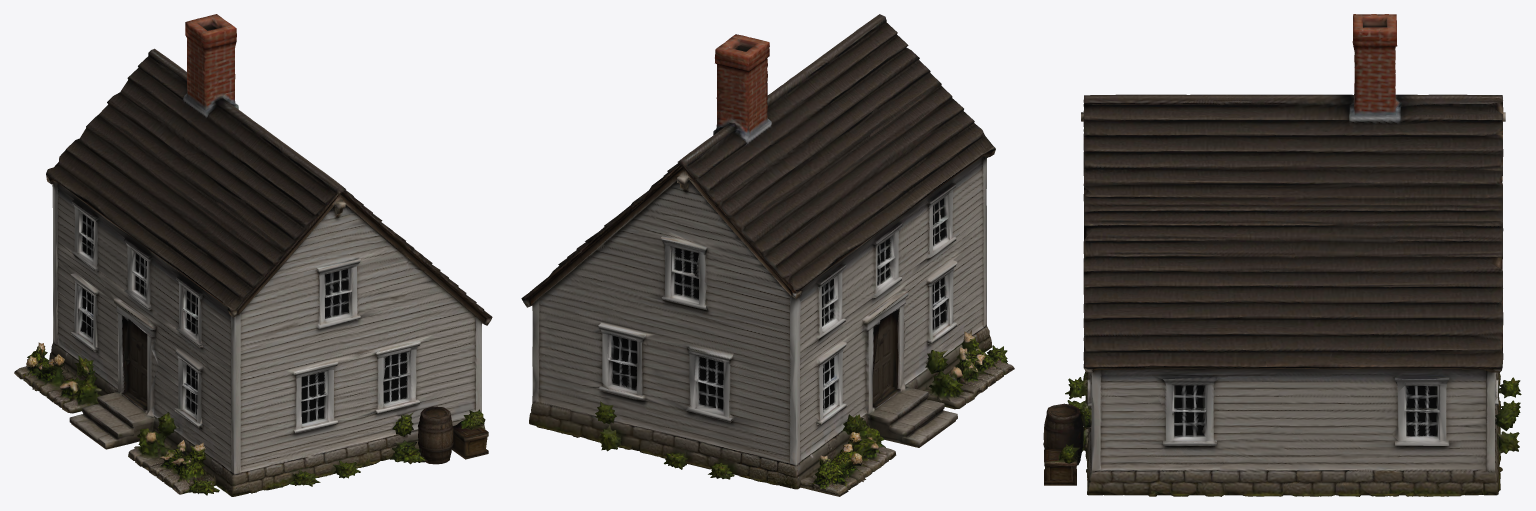
Rendered from tripo_convert_3a8a403c-18cd-4684-aea0-3d6079dfaf19.fbx.
3 renders of one model, left to right at view 1: azimuth 30°, elevation 25°; view 2: azimuth 150°, elevation 25°; view 3: azimuth 270°, elevation 25°, orthographic. The views are drawn at different scales.
Visible parts, largest first — view 1: tripo_node_3a8a403c; view 2: tripo_node_3a8a403c; view 3: tripo_node_3a8a403c.
Boxes of the visible parts, x1,y1,x2,y2 form: tripo_node_3a8a403c: (14,14,492,496); tripo_node_3a8a403c: (521,14,1014,496); tripo_node_3a8a403c: (1043,14,1521,496).
Size of the model in its own units: 0.8114 by 0.8939 by 0.9818.
Materials: 1 (1 with a texture image).
